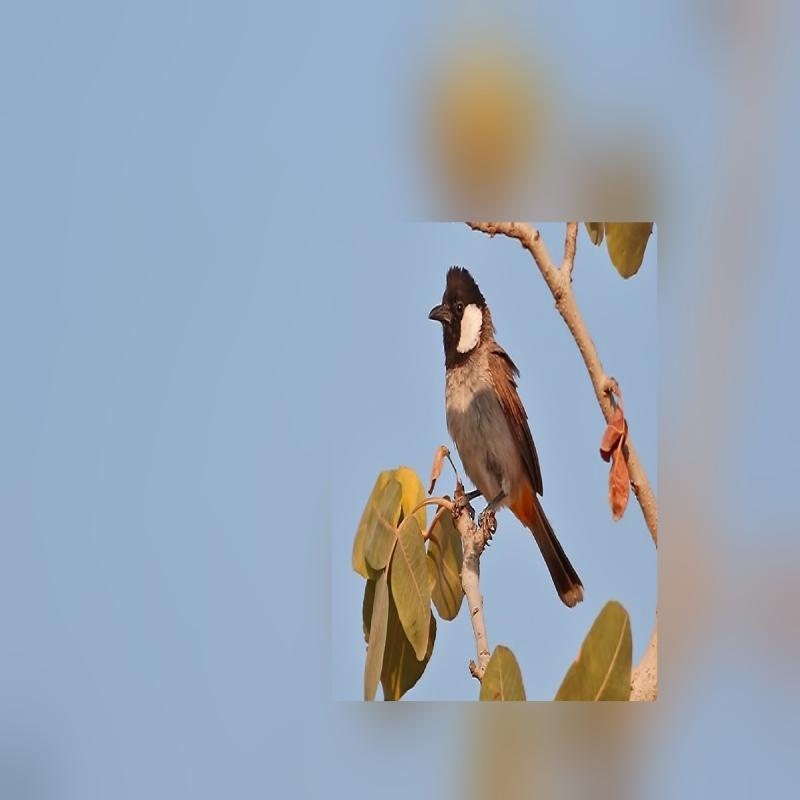white-eared bulbul: (421, 256, 590, 620)
